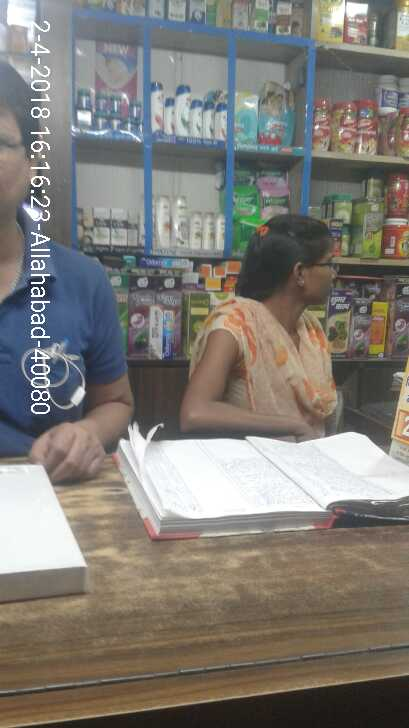vicks: (75, 88, 146, 134)
